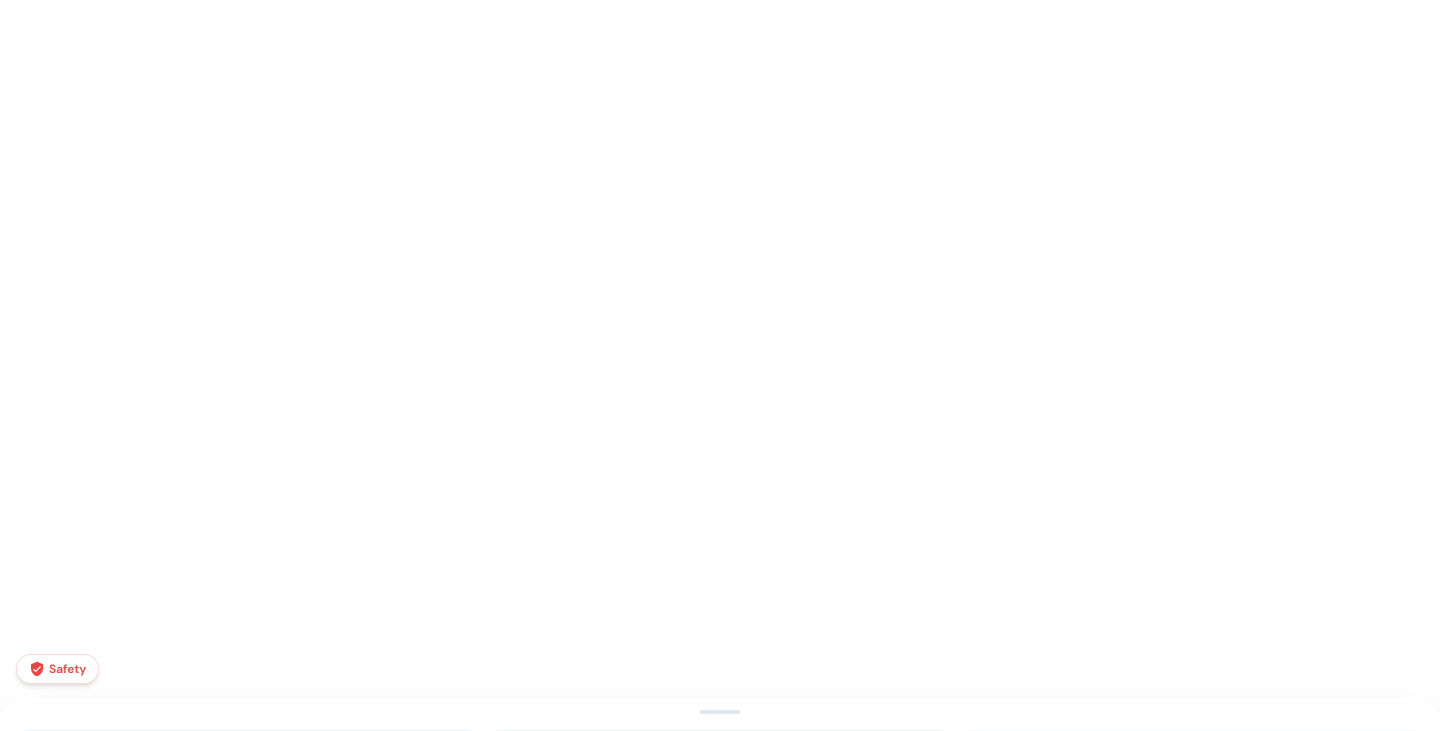
Test: JourneyDrawer › shows transit remaining journey when transitInfo is provided
Expand the drawer
Click the element with class "cursor-grab": click(720, 712) [700,710,740,714]
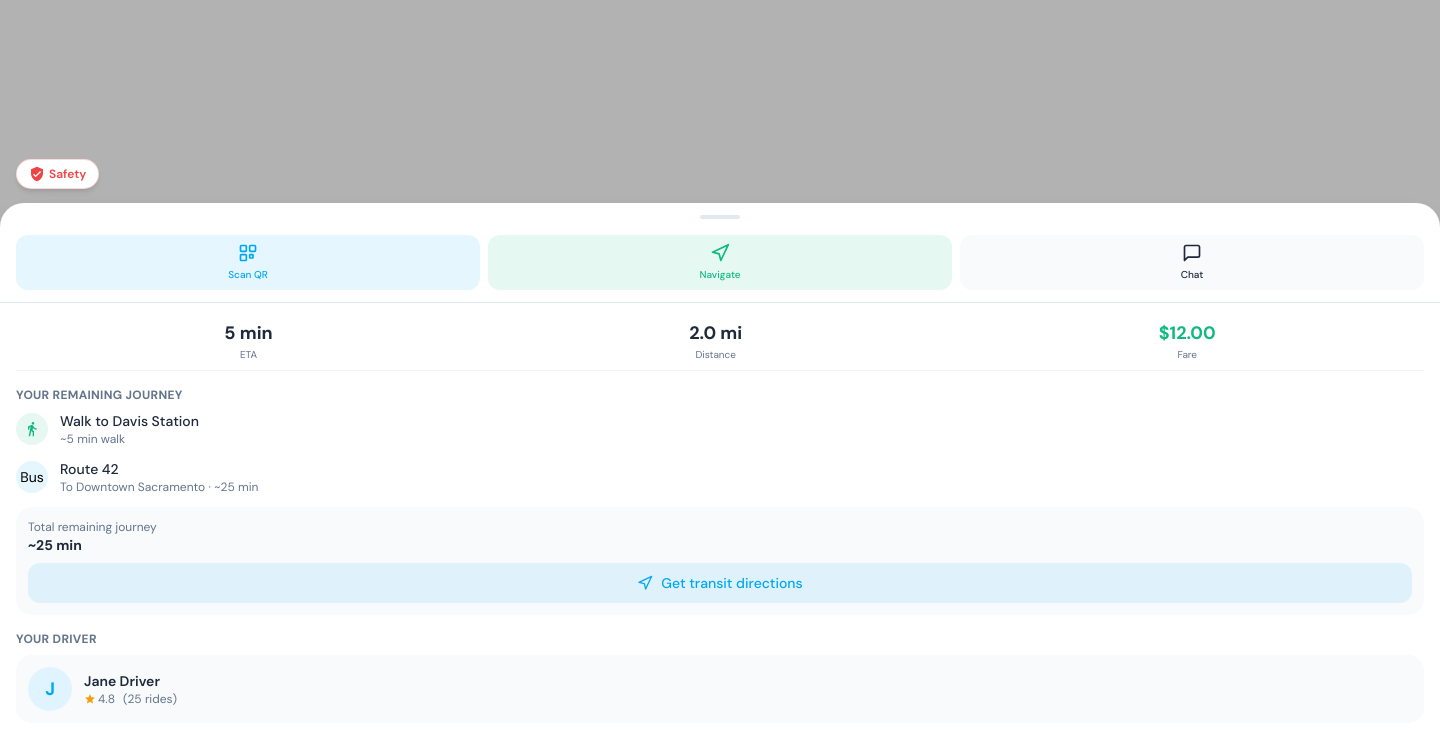
Check: the element with test id "transit-remaining-journey" is shown, box [16,386,1424,614]
Check: the heading "Your Remaining Journey" is shown, box [16,386,183,402]
Check: the text "Walk to Davis Station" is shown, box [60,412,199,430]
